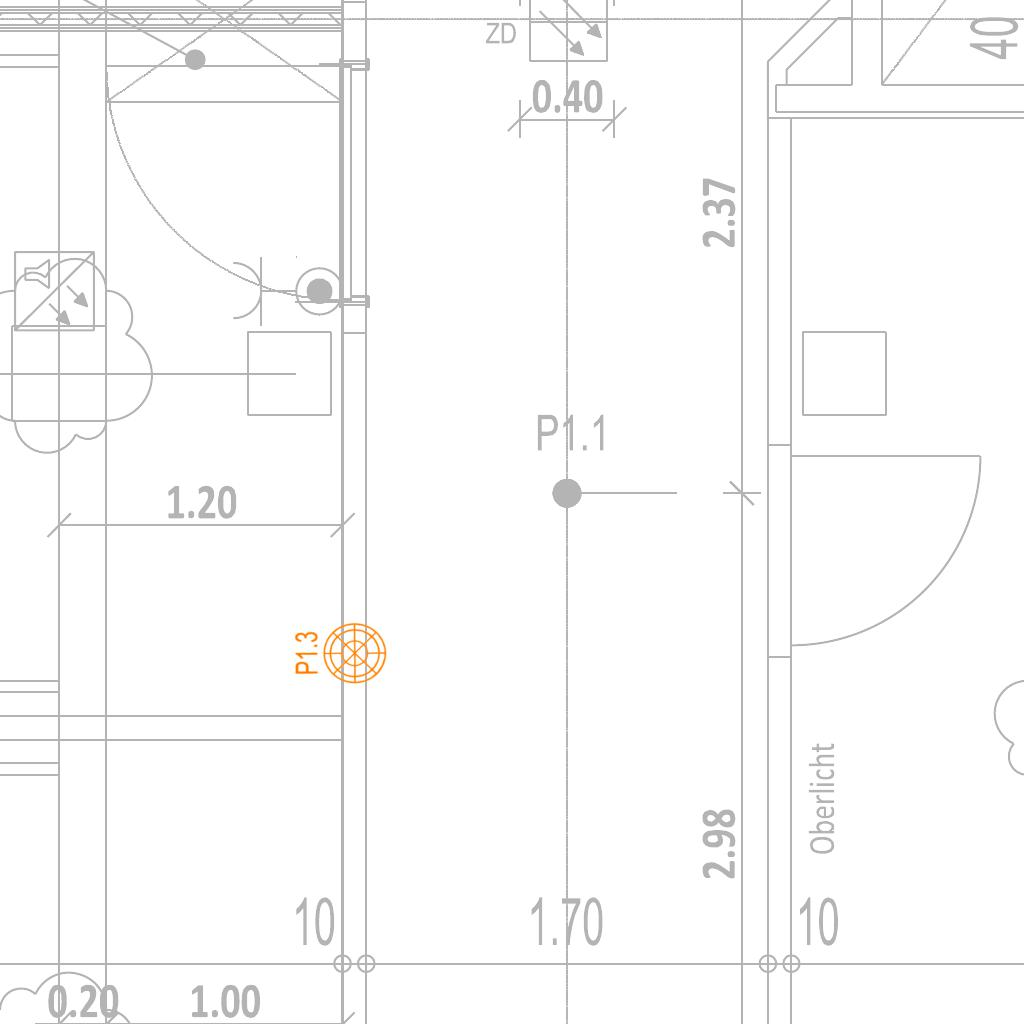Aufbaurundleuchte_LED_Treppenhaus: (286, 616, 388, 685)
